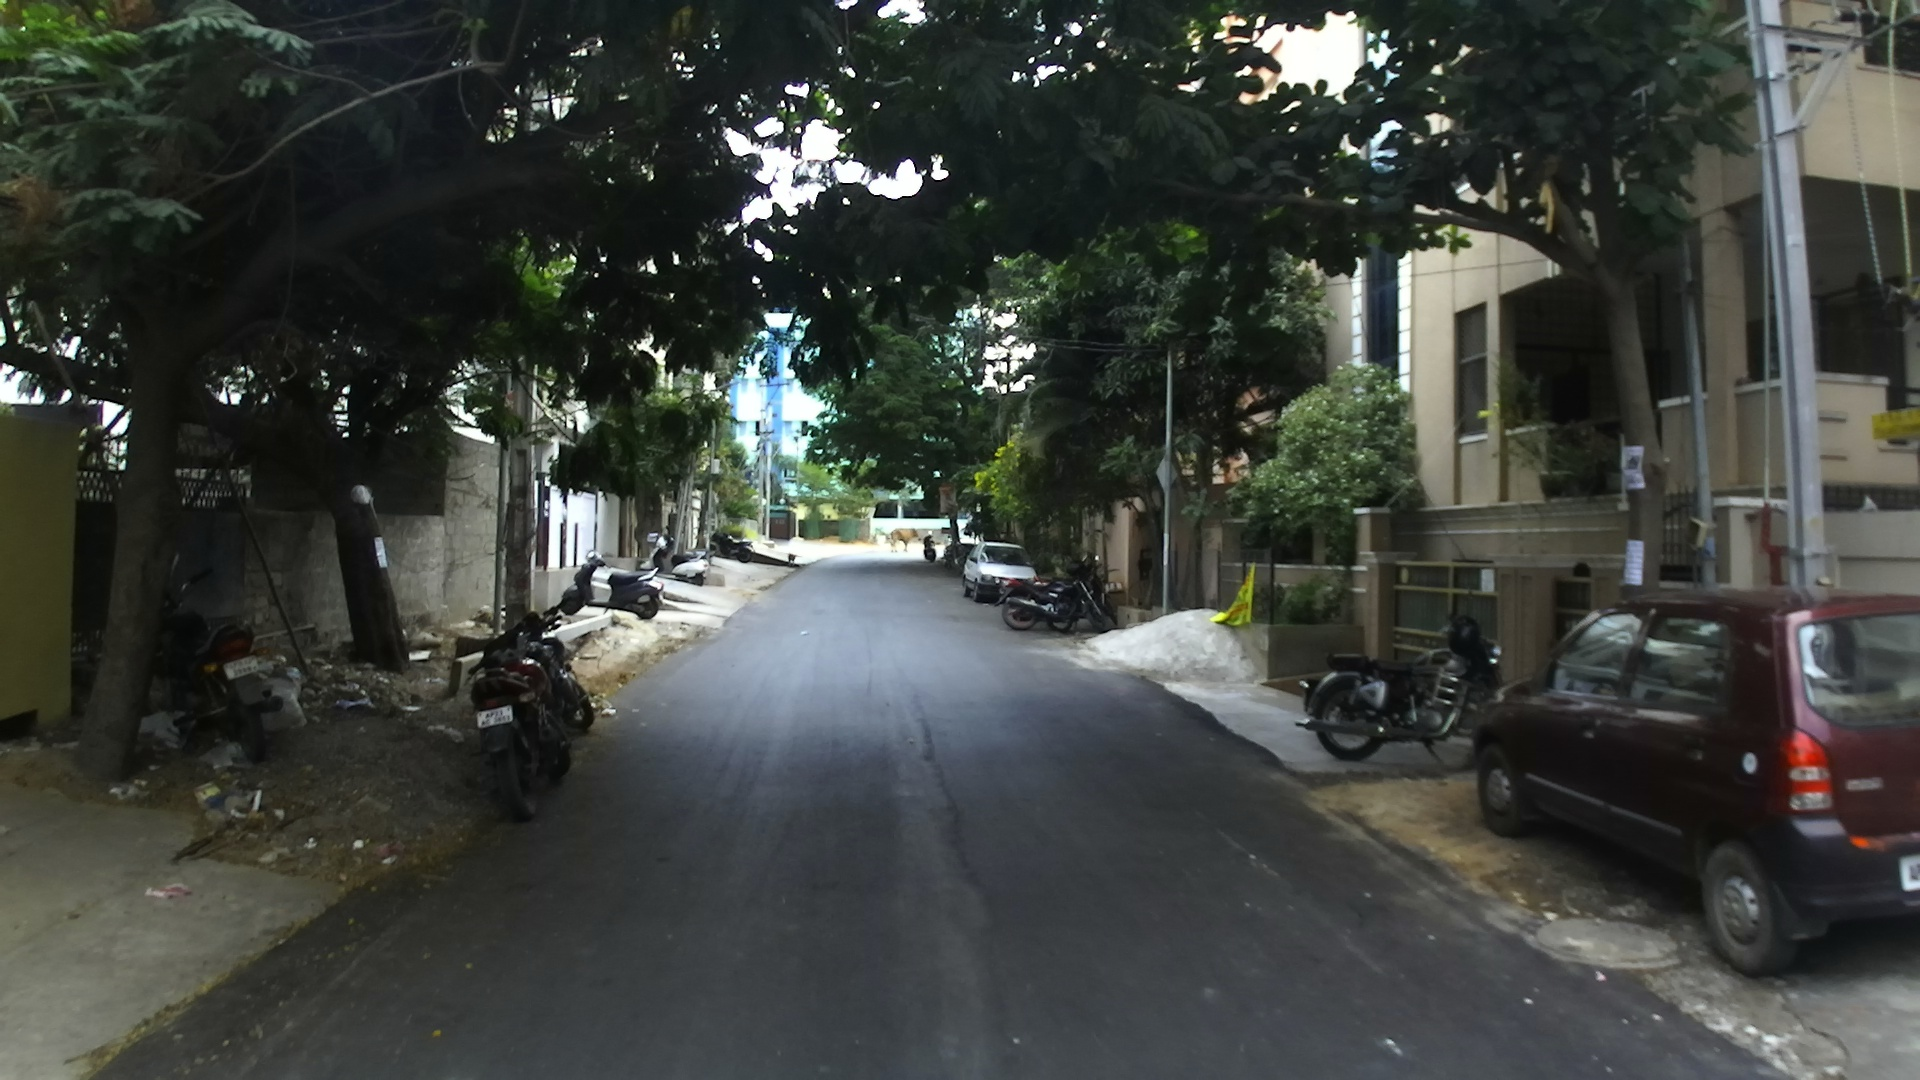vehicle: (1470, 583, 1917, 976), (464, 609, 600, 822), (1001, 578, 1098, 634), (571, 560, 663, 620), (960, 545, 1039, 603)
